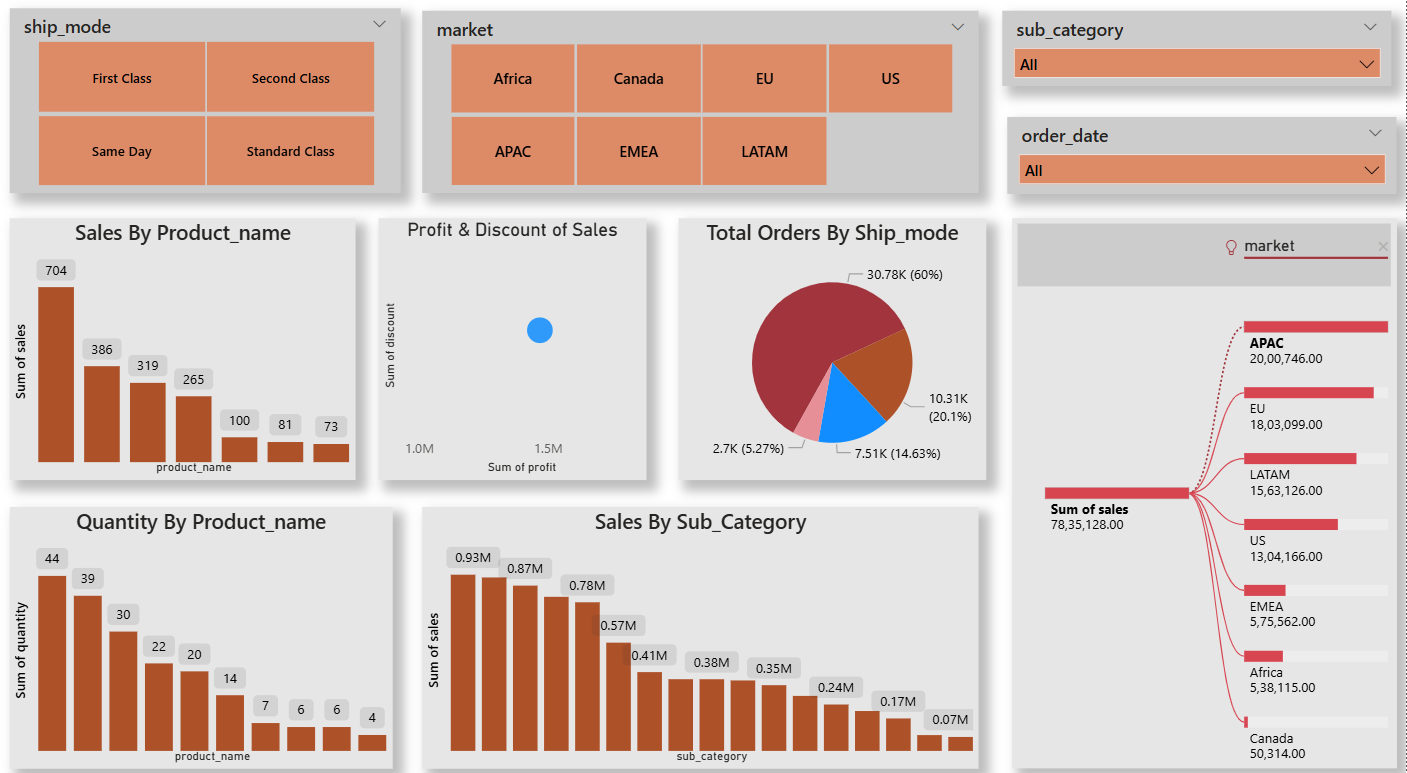

The dashboard page shown, as its layout file describes it:
{"tool":"powerbi","page":{"name":"Page 2","canvas":[1280,720],"ordinal":1},"visuals":[{"type":"columnChart","title":"Sales By Sub_Category","fields":{"Category":["superstore_db superstore_data.sub_category"],"Y":["Sum(superstore_db superstore_data.sales)"]},"box":[389.5,466,503.5,236.6],"z":0},{"type":"columnChart","title":"Sales By Product_name","fields":{"Category":["superstore_db superstore_data.product_name"],"Y":["Sum(superstore_db superstore_data.sales)"]},"box":[17.3,204.9,313.1,236.6],"z":1000},{"type":"pieChart","title":"Total Orders By Ship_mode","fields":{"Category":["superstore_db superstore_data.ship_mode"],"Y":["CountNonNull(superstore_db superstore_data.order_id)"]},"box":[621.8,204.9,278.5,236.6],"z":4000},{"type":"columnChart","title":"Quantity By Product_name","fields":{"Category":["superstore_db superstore_data.product_name"],"Y":["Sum(superstore_db superstore_data.quantity)"]},"box":[17.3,466,346.3,236.6],"z":4001},{"type":"decompositionTreeVisual","fields":{"ExplainBy":["superstore_db superstore_data.market"],"Analyze":["Sum(superstore_db superstore_data.sales)"]},"box":[923.4,204.9,347.7,497.8],"z":4002},{"type":"scatterChart","title":"Profit & Discount of Sales","fields":{"X":["Sum(superstore_db superstore_data.profit)"],"Y":["Sum(superstore_db superstore_data.discount)"],"Size":["Sum(superstore_db superstore_data.sales)"]},"box":[350.6,204.9,242.4,236.6],"z":4003},{"type":"slicer","fields":{"Values":["superstore_db superstore_data.market"]},"box":[389.5,17.3,503.5,164.5],"z":4004},{"type":"slicer","fields":{"Values":["superstore_db superstore_data.ship_mode"]},"box":[17.3,14.4,353.5,167.4],"z":4005},{"type":"slicer","fields":{"Values":["superstore_db superstore_data.order_date"]},"box":[919,112.5,352,69.3],"z":4006},{"type":"slicer","fields":{"Values":["superstore_db superstore_data.sub_category"]},"box":[914.7,17.3,352,67.8],"z":4007}]}

Visuals, with their boxes in screenshot pixels (x1, y1, x2, y2), scaled from the page's 1280x720 canvas onto the 1407x773 screenshot:
"Sales By Sub_Category" columnChart: <bbox>428, 500, 982, 754</bbox>
"Sales By Product_name" columnChart: <bbox>19, 220, 363, 474</bbox>
"Total Orders By Ship_mode" pieChart: <bbox>683, 220, 990, 474</bbox>
"Quantity By Product_name" columnChart: <bbox>19, 500, 400, 754</bbox>
decompositionTreeVisual - superstore_db superstore_data.market x Sum(superstore_db superstore_data.sales): <bbox>1015, 220, 1397, 754</bbox>
"Profit & Discount of Sales" scatterChart: <bbox>385, 220, 652, 474</bbox>
slicer - superstore_db superstore_data.market: <bbox>428, 19, 982, 195</bbox>
slicer - superstore_db superstore_data.ship_mode: <bbox>19, 15, 408, 195</bbox>
slicer - superstore_db superstore_data.order_date: <bbox>1010, 121, 1397, 195</bbox>
slicer - superstore_db superstore_data.sub_category: <bbox>1005, 19, 1392, 91</bbox>
